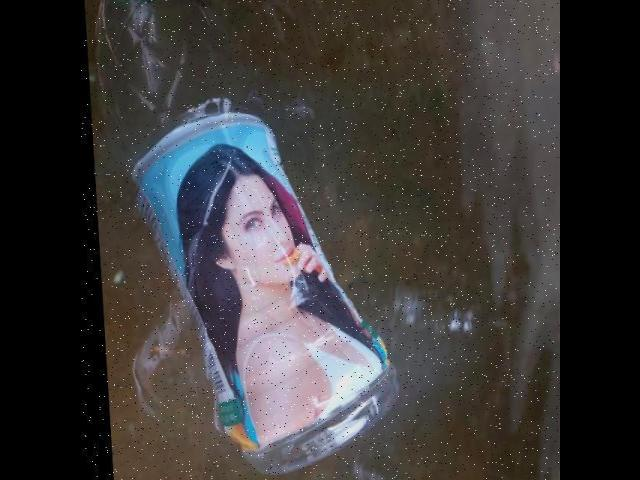Waste: (123, 87, 433, 449)
